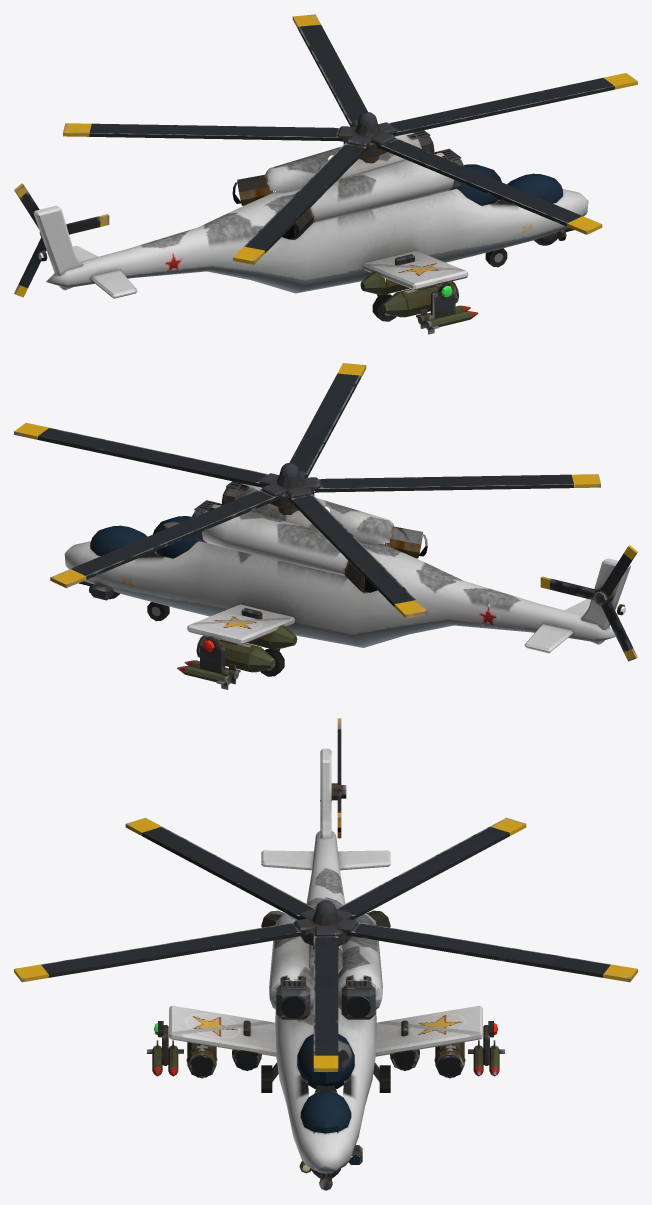
The model's file is hind.soviet.glb.
3 renders of one model, top to bottom at view 1: azimuth 30°, elevation 25°; view 2: azimuth 150°, elevation 25°; view 3: azimuth 270°, elevation 25°, orthographic. The views are drawn at different scales.
Visible parts, largest first — view 1: root_mesh, rotor_mesh, trotor_mesh; view 2: root_mesh, rotor_mesh, trotor_mesh; view 3: root_mesh, rotor_mesh, trotor_mesh.
Boxes of the visible parts, x1,y1,x2,y2 form: root_mesh: (33, 130, 588, 334); rotor_mesh: (63, 14, 637, 264); trotor_mesh: (14, 183, 109, 297); root_mesh: (64, 481, 630, 689); rotor_mesh: (14, 363, 600, 618); trotor_mesh: (540, 545, 637, 661); root_mesh: (147, 748, 504, 1190); rotor_mesh: (14, 817, 637, 1071); trotor_mesh: (337, 718, 346, 838).
Bounding box in the file's own units: 1.33 × 0.3976 × 1.11.
Materials: 2 (1 with a texture image).
